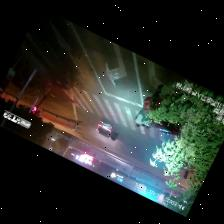person: (149, 84, 163, 109), (136, 107, 150, 126)
